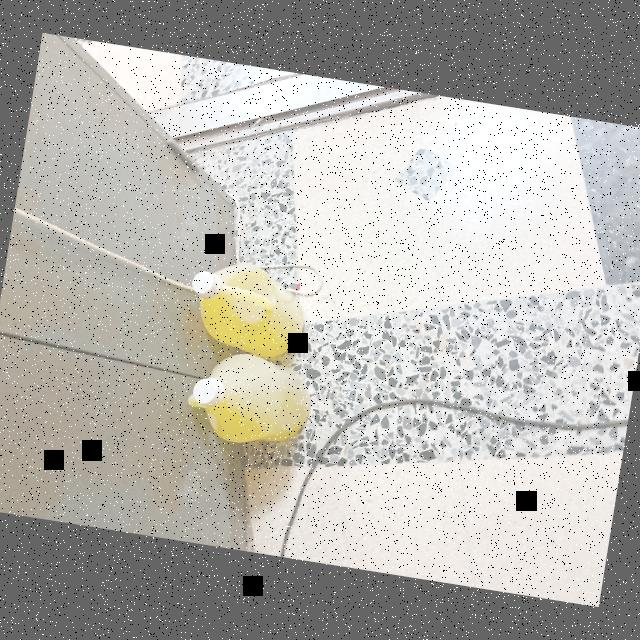chemical_plastic_gallon: (163, 242, 325, 374), (174, 341, 318, 474)
